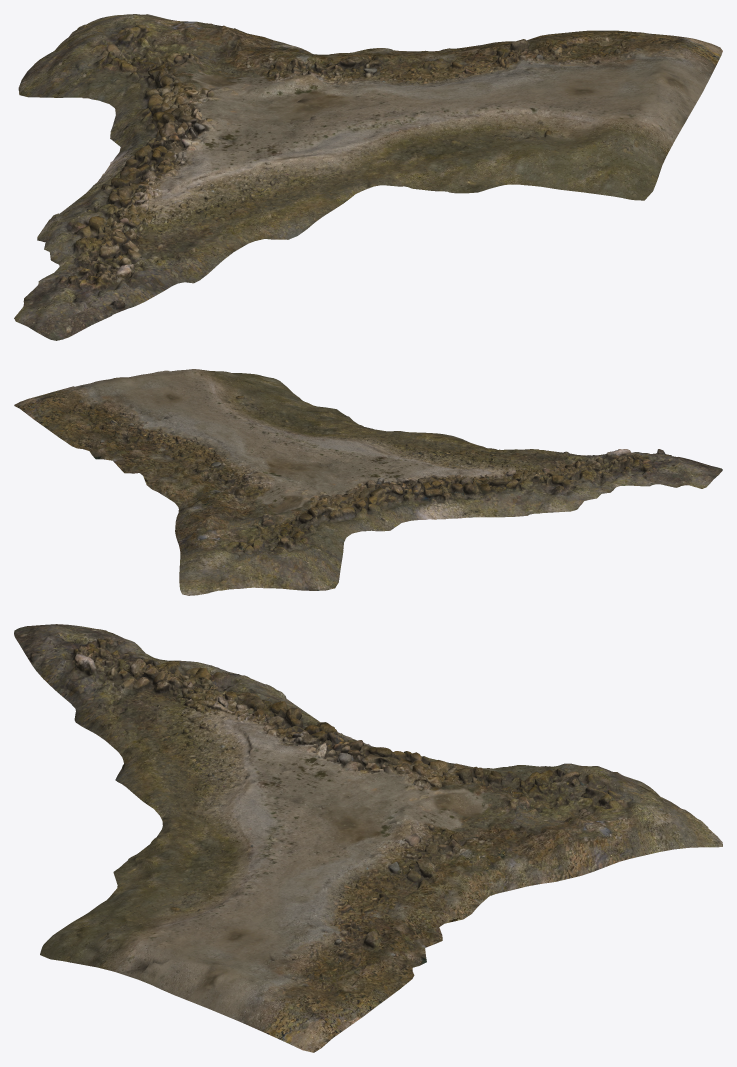
Rendered from coast_rocks_01.glb.
3 views of the same model, one above another, from view 1: azimuth 30°, elevation 25°; view 2: azimuth 150°, elevation 25°; view 3: azimuth 270°, elevation 25° (orthographic). The views are drawn at different scales.
Parts seen in each view (by area): view 1: coast_rocks_01; view 2: coast_rocks_01; view 3: coast_rocks_01.
Boxes of the visible parts, x1,y1,x2,y2 form: coast_rocks_01: [14, 14, 722, 340]; coast_rocks_01: [14, 369, 722, 595]; coast_rocks_01: [14, 624, 722, 1052].
Size of the model in its own units: 59.51 by 3.28 by 42.51.
1 material, 1 textured.
